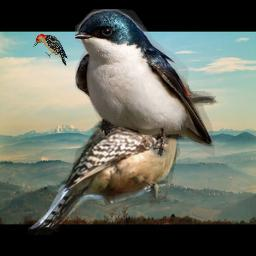Swallow: (75, 9, 215, 158)
Woodpecker: (28, 67, 221, 235), (33, 34, 68, 67)
